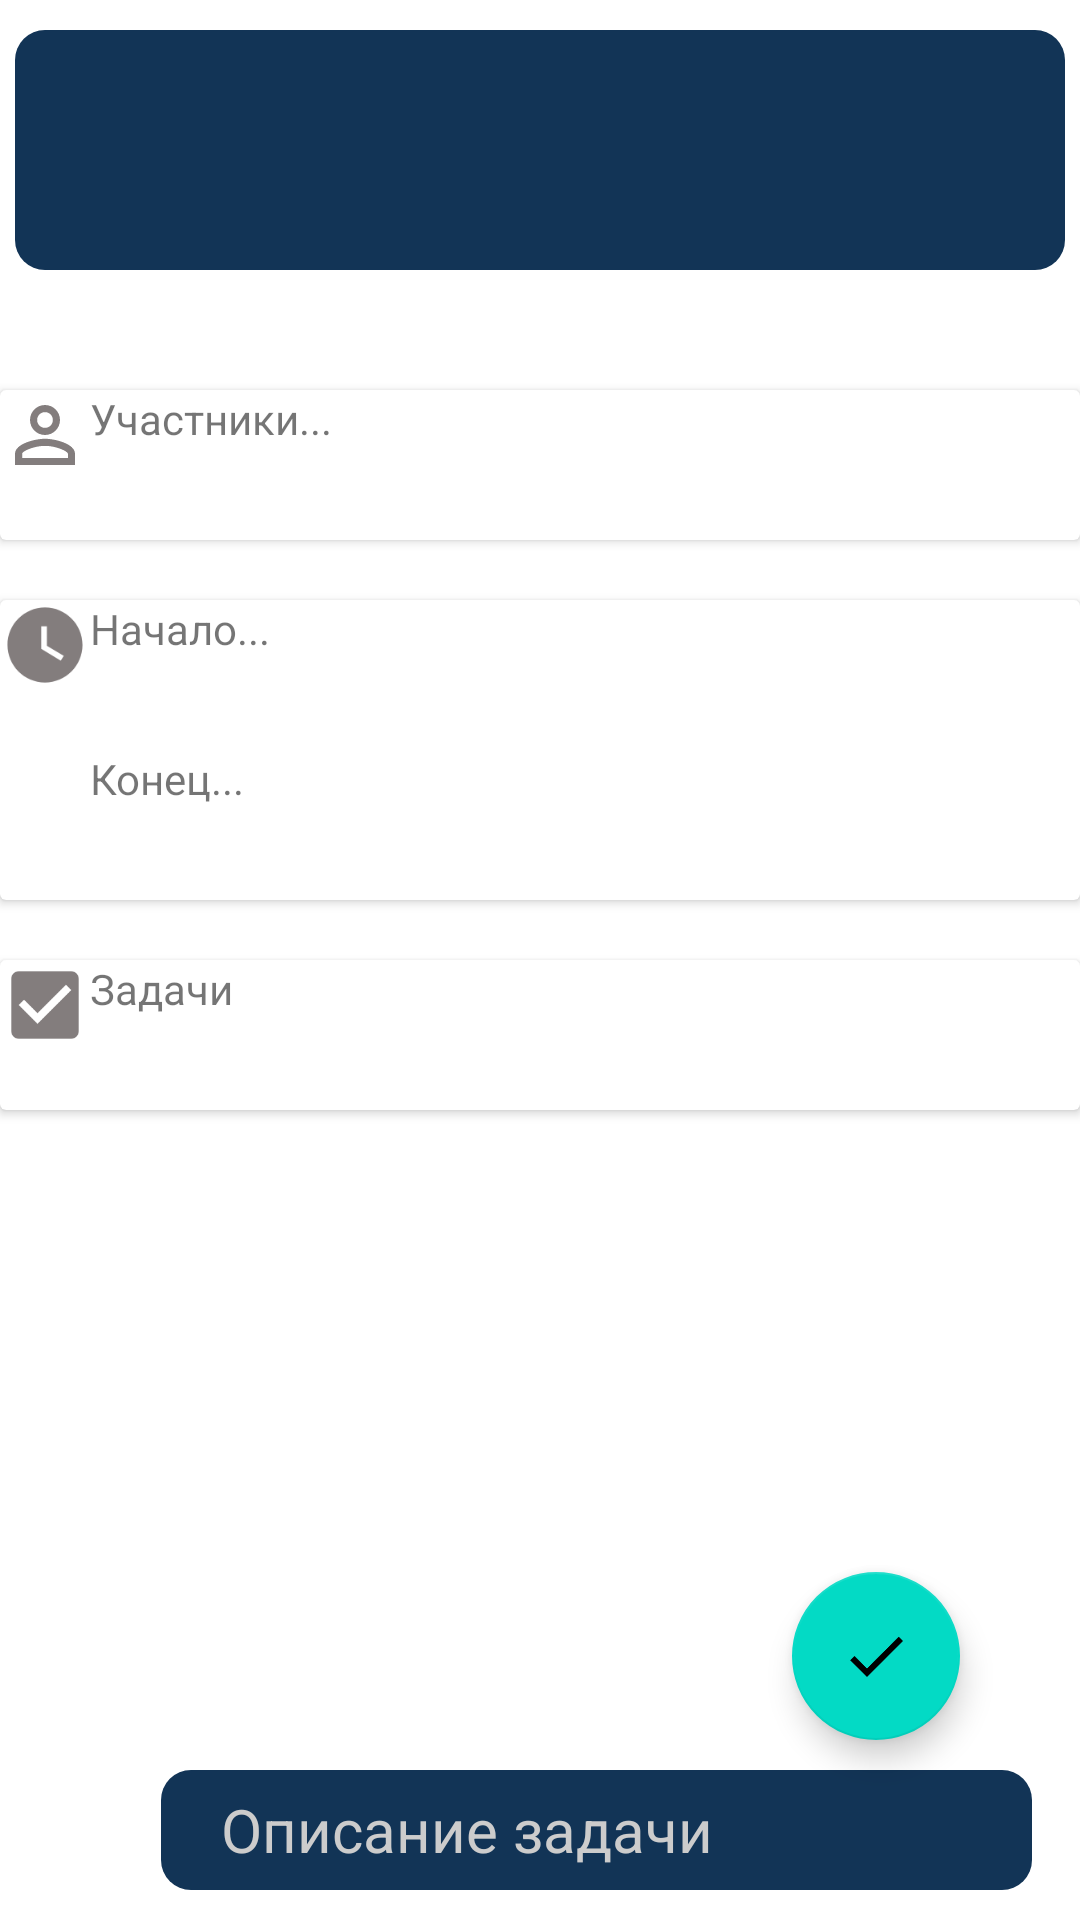

Named icons in this screenshot (1080 x 1920) and their centers, point (x, y):
check: point (876, 1656)
is check box: point (45, 1005)
person: point (45, 435)
watch later: point (45, 645)
